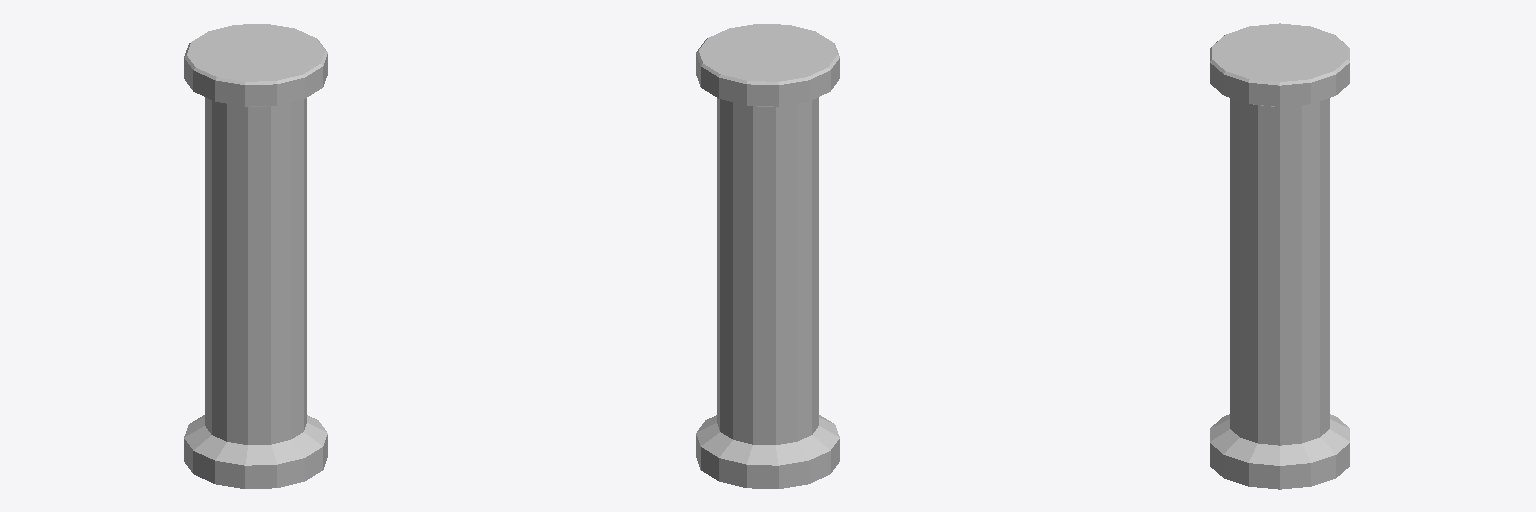
The model's file is Pillar.obj.
3 views of the same model, side by side, from view 1: azimuth 30°, elevation 25°; view 2: azimuth 150°, elevation 25°; view 3: azimuth 270°, elevation 25° (orthographic).
Visible parts, largest first — view 1: pCylinder3; view 2: pCylinder3; view 3: pCylinder3.
Part boxes in pixels (x1,y1,x2,y2): pCylinder3: (184,24,327,488); pCylinder3: (696,24,839,488); pCylinder3: (1210,23,1349,489).
Bounding box in the file's own units: 1.28 × 3.99 × 1.25.